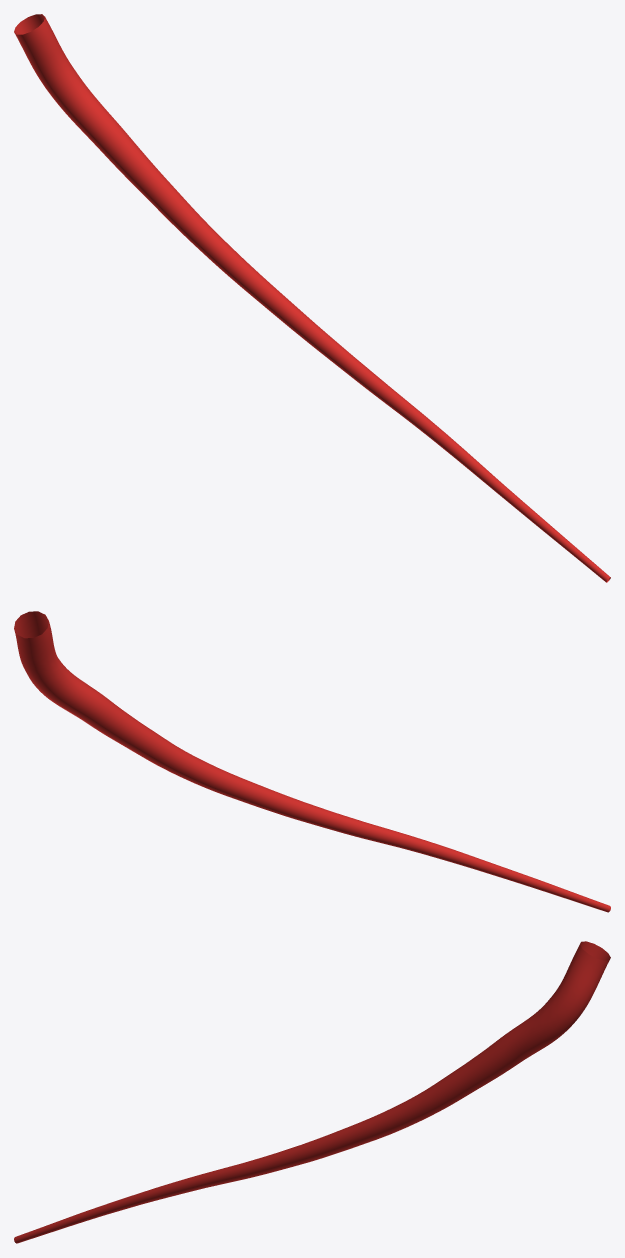
Rendered from circulatorio-posterior-superior-alveolar-artery-l.glb.
The picture shows the model from 3 angles, top to bottom: view 1: azimuth 90°, elevation 25°; view 2: azimuth 150°, elevation 25°; view 3: azimuth 270°, elevation 25°; orthographic projection. The views are drawn at different scales.
Parts seen in each view (by area): view 1: Posterior superior alveolar artery.l; view 2: Posterior superior alveolar artery.l; view 3: Posterior superior alveolar artery.l.
Part boxes in pixels (<box>): Posterior superior alveolar artery.l: <box>14,14,610,582</box>; Posterior superior alveolar artery.l: <box>14,611,610,912</box>; Posterior superior alveolar artery.l: <box>14,941,610,1243</box>.
Bounding box in the file's own units: 0.0097 × 0.0136 × 0.0171.
